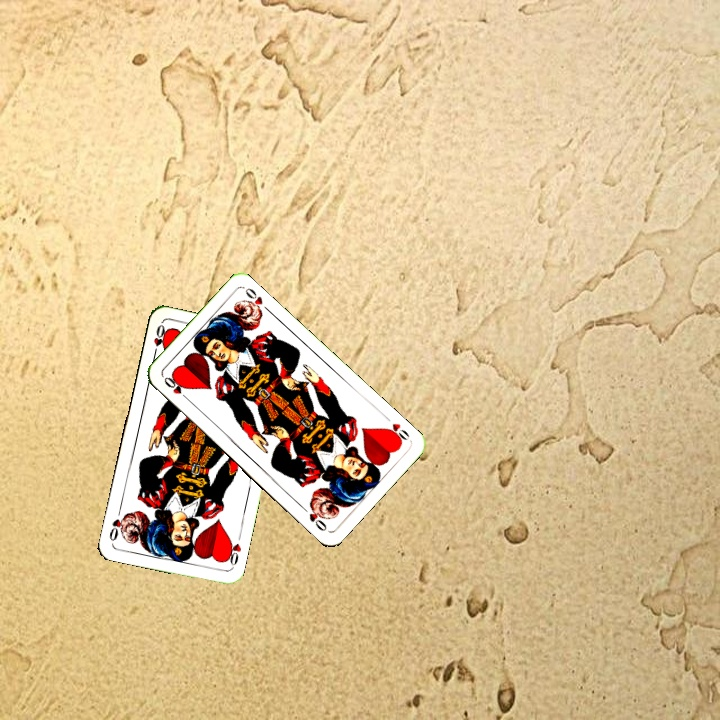HO: (380, 411, 412, 446), (160, 372, 192, 404), (149, 320, 168, 360), (222, 536, 244, 570)
